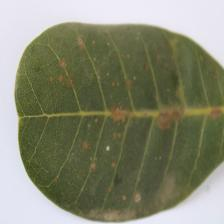leaf miner: (13, 21, 224, 222)
